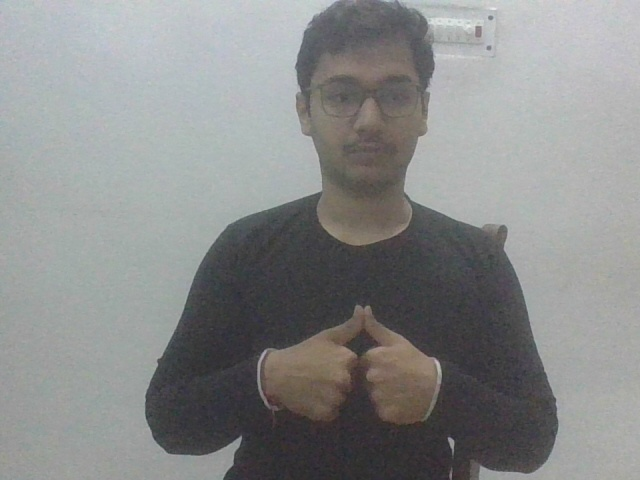A: (253, 304, 444, 418)
